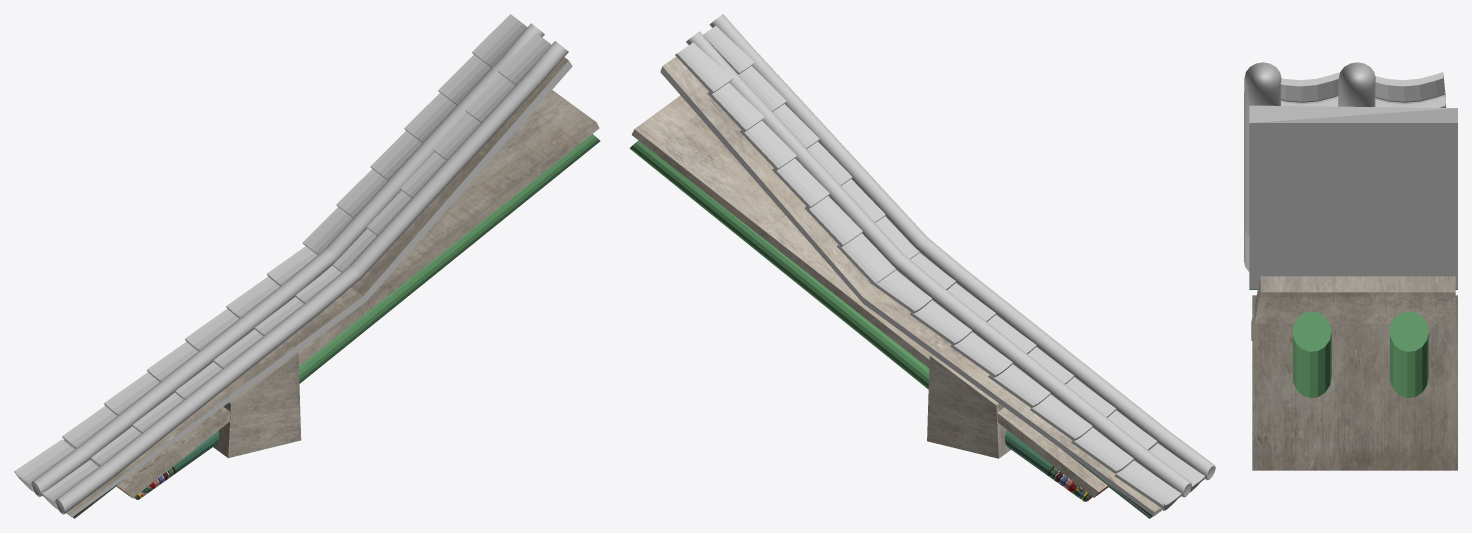
File: SM_Roof_4.fbx
The picture shows the model from 3 angles, left to right: view 1: azimuth 30°, elevation 25°; view 2: azimuth 150°, elevation 25°; view 3: azimuth 270°, elevation 25°; orthographic projection. The views are drawn at different scales.
Parts seen in each view (by area): view 1: SM_Roof_4; view 2: SM_Roof_4; view 3: SM_Roof_4.
Boxes of the visible parts, box(x1,y1,x2,y2) form: SM_Roof_4: box(14, 14, 600, 518); SM_Roof_4: box(629, 14, 1215, 518); SM_Roof_4: box(1244, 62, 1457, 470).
Bounding box in the file's own units: 810 × 138 × 513.
